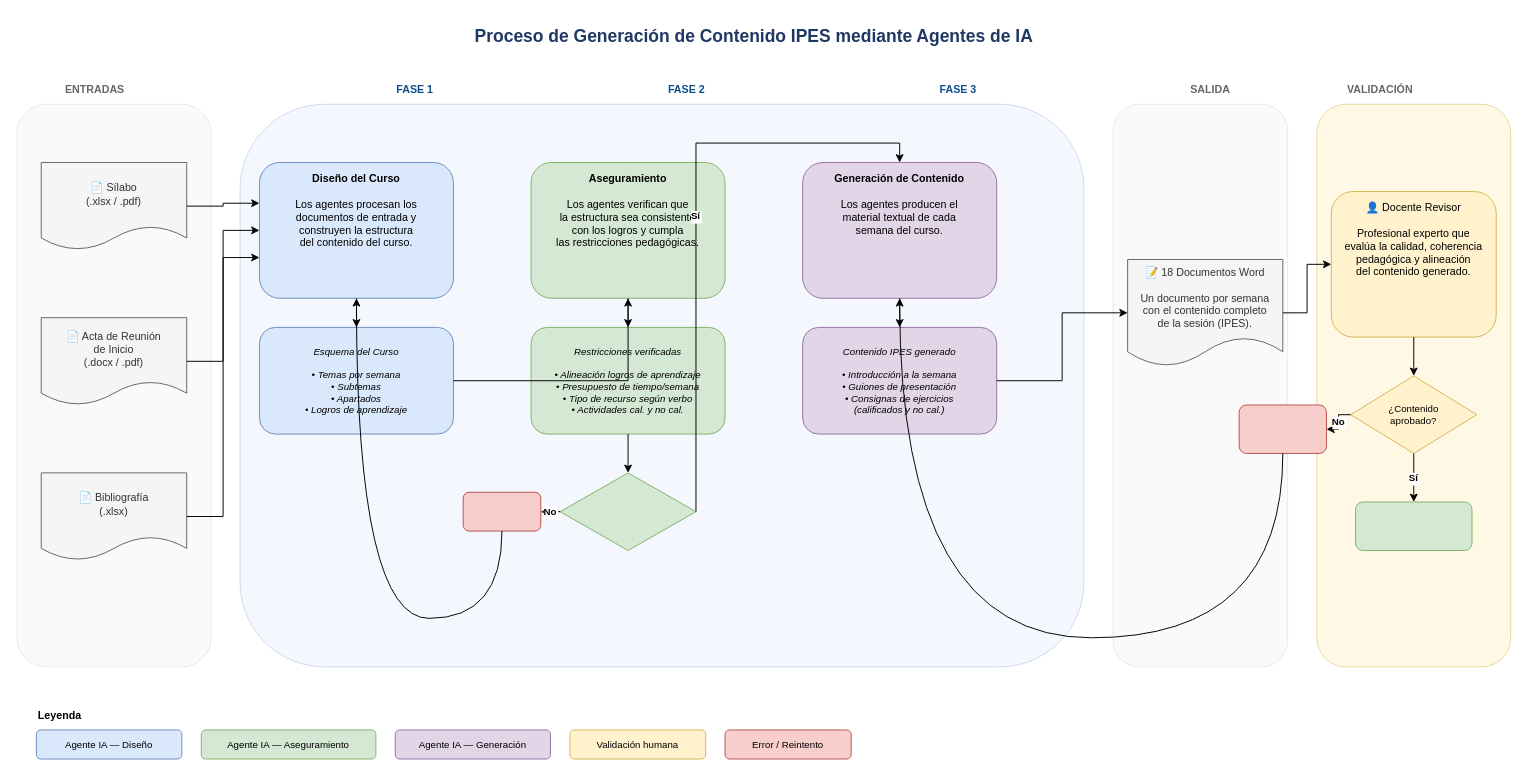
Image size: 1528x776. Some labels were removed from this diagram. The centre of each missing label's shape, as x and y in pixels:
"Ajuste y reintento" goes at point (501, 511).
"¿Estructura consistente?" goes at point (627, 511).
"✅ Contenido Aprobado" goes at point (1413, 525).
"🔄 Observaciones al equipo" goes at point (1282, 428).
